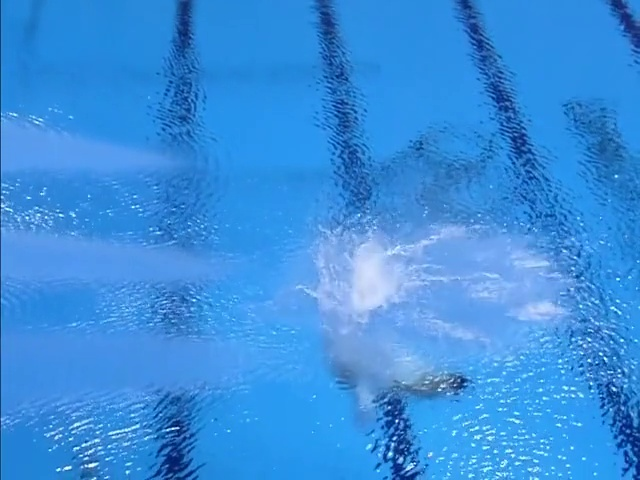splash: (290, 222, 572, 347)
